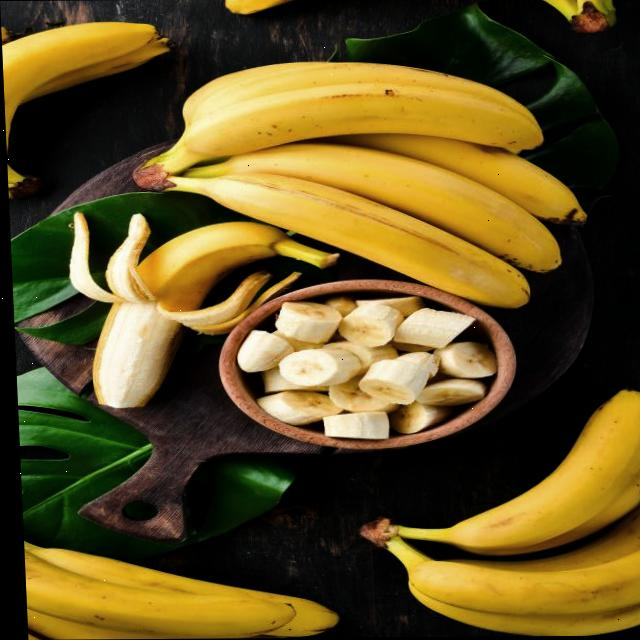banana: (110, 68, 605, 292), (325, 395, 640, 637), (39, 193, 334, 406)
